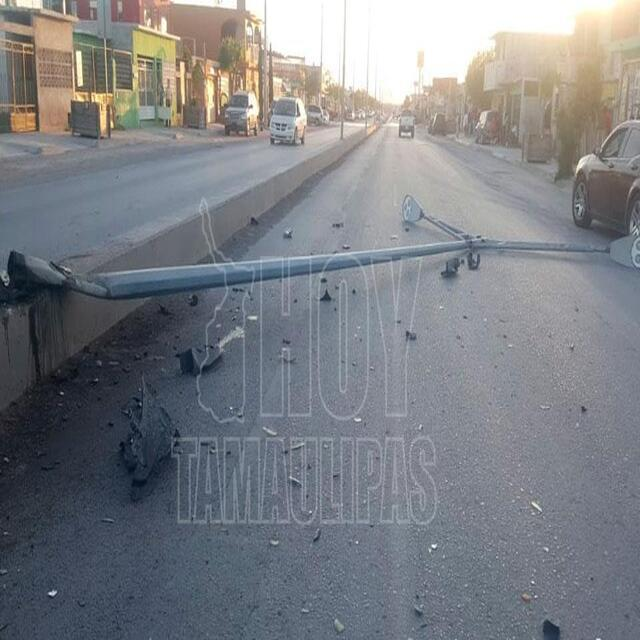Inclined Pole: (4, 193, 640, 297)
